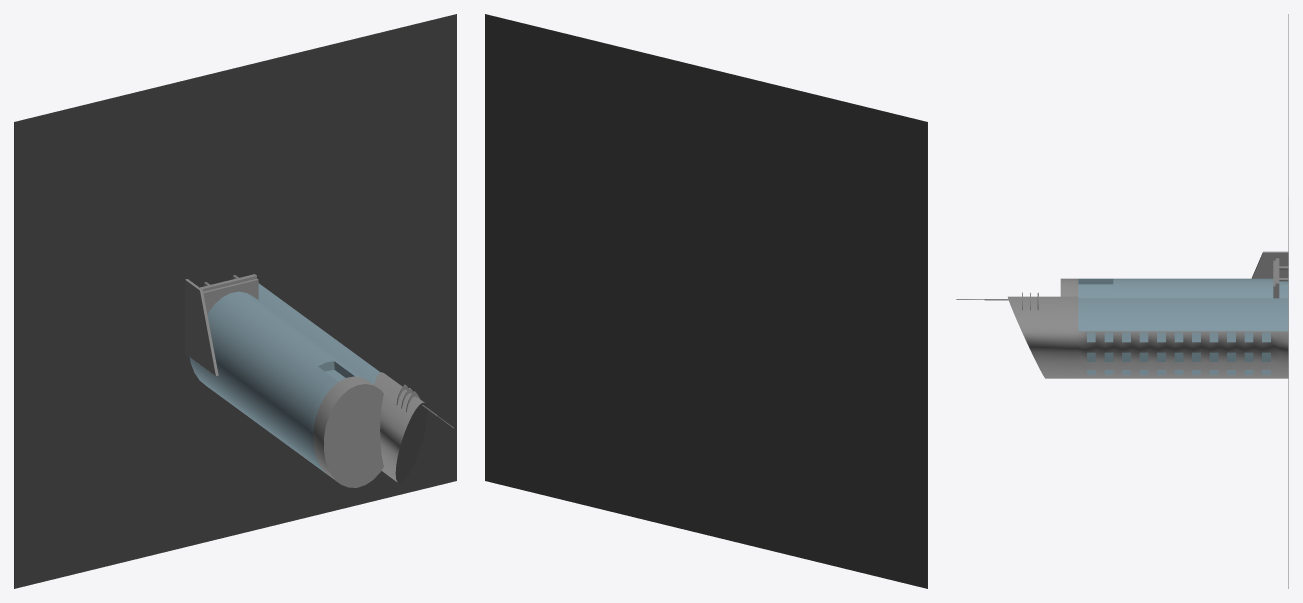
File: Buildingj.obj
The picture shows the model from 3 angles, left to right: view 1: azimuth 30°, elevation 25°; view 2: azimuth 150°, elevation 25°; view 3: azimuth 270°, elevation 25°; orthographic projection. The views are drawn at different scales.
Parts seen in each view (by area): view 1: Box09, Object26, Cylinder110, Cylinder111, Box399, Object22; view 2: Box09; view 3: Cylinder111, Object22, Object26, Object23, Object24, Box399, Box09, Object25.
Boxes of the visible parts, x1=… form: Box09: x1=14, y1=14, x2=456, y2=588; Object26: x1=189, y1=291, x2=368, y2=475; Cylinder110: x1=313, y1=376, x2=383, y2=487; Cylinder111: x1=374, y1=372, x2=427, y2=483; Box399: x1=185, y1=274, x2=258, y2=375; Object22: x1=258, y1=283, x2=380, y2=384; Box09: x1=485, y1=14, x2=927, y2=588; Cylinder111: x1=1008, y1=296, x2=1288, y2=378; Object22: x1=1078, y1=298, x2=1288, y2=331; Object26: x1=1078, y1=278, x2=1288, y2=298; Object23: x1=1087, y1=332, x2=1270, y2=342; Object24: x1=1087, y1=352, x2=1270, y2=361; Box399: x1=1251, y1=251, x2=1288, y2=298; Box09: x1=1288, y1=14, x2=1288, y2=588; Object25: x1=1087, y1=370, x2=1270, y2=374.
Size of the model in its own units: 1425 by 1436 by 1100.
